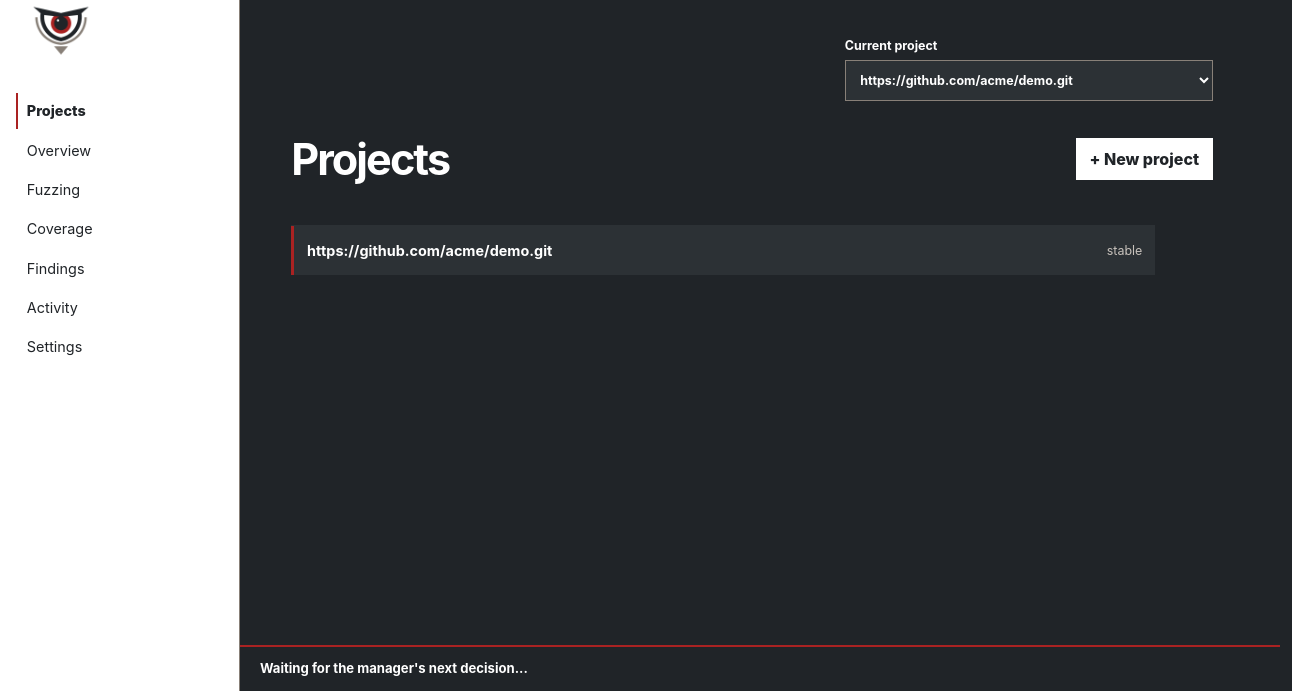
Test: App journey › loads host health with project settings and presents compact local service checks
Click the link "Settings" at (55, 347), box [27,338,82,355]
(page scrolled)
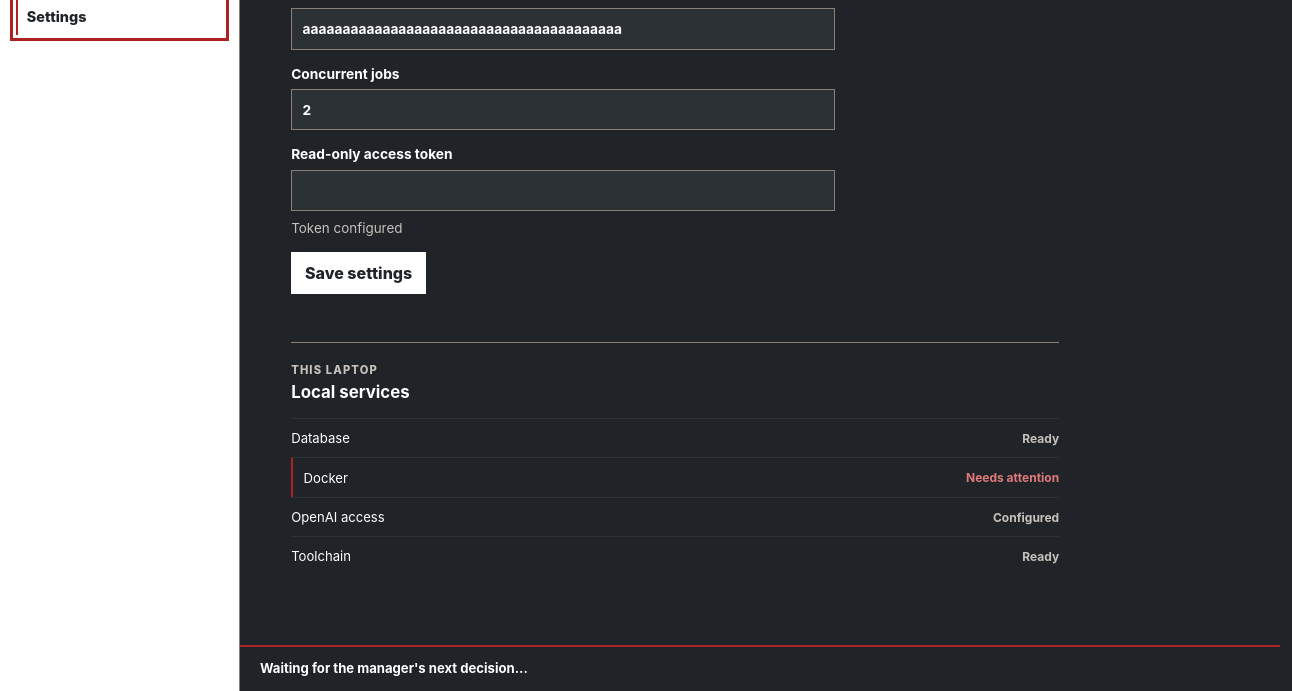
Result: the text "Database" is shown at [291,430,350,446]
Result: the text "Docker" is shown at [304,470,348,486]
Result: the text "OpenAI access" is shown at [291,509,385,525]
